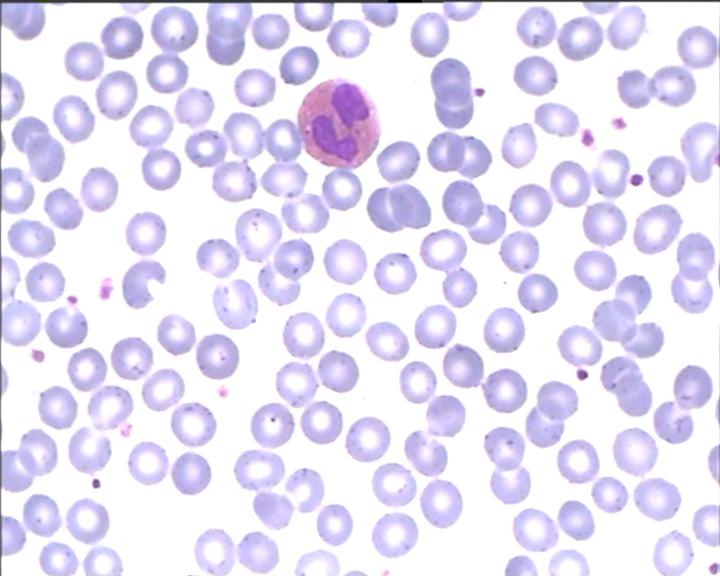eosi: (294, 72, 386, 171)
